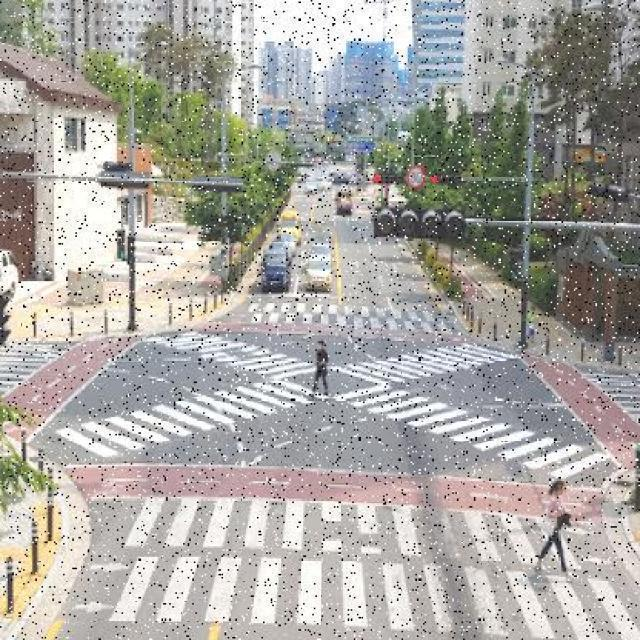crosswalk: (110, 556, 640, 638), (130, 494, 585, 566), (339, 381, 608, 484), (54, 378, 330, 462), (152, 329, 327, 381), (339, 342, 521, 385), (0, 341, 77, 400), (254, 311, 464, 332), (588, 372, 638, 429), (254, 301, 457, 315)
